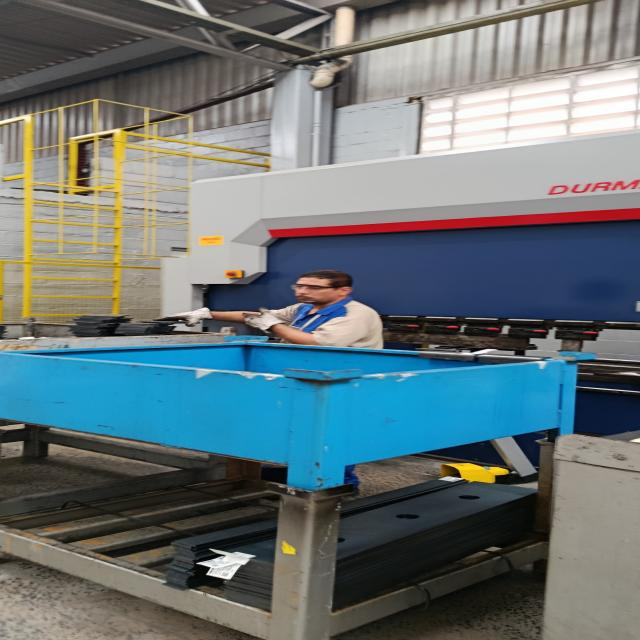oculos-epi: (291, 284, 340, 291)
